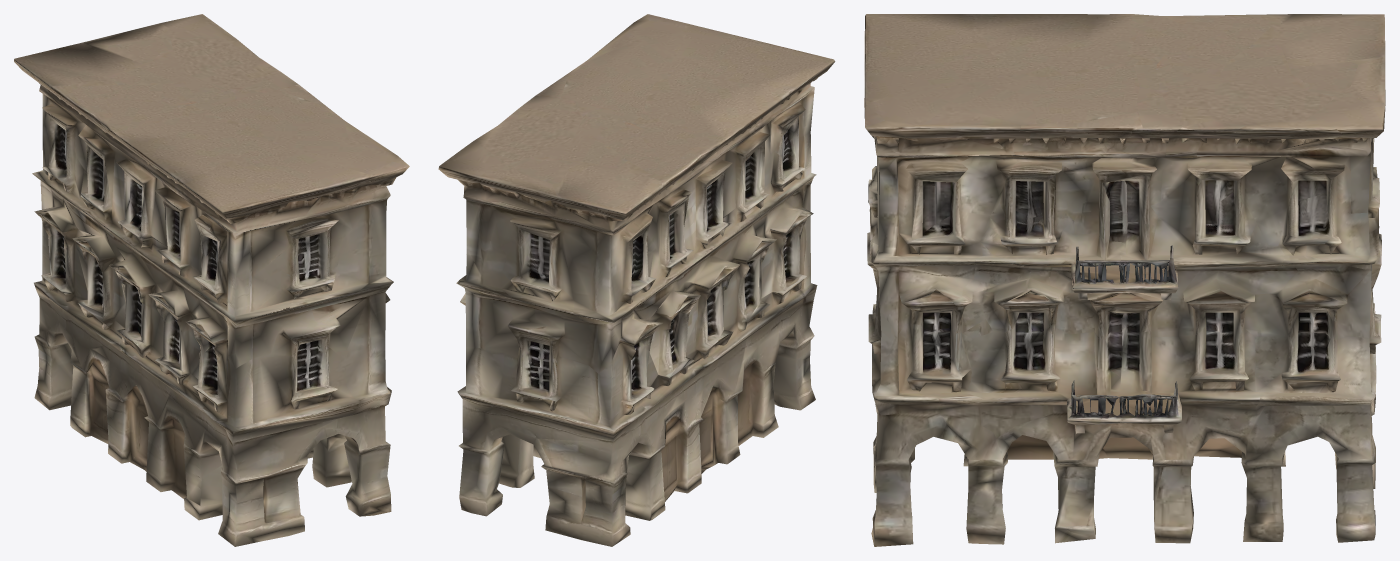
The model's file is travertine-palazzo.glb.
The picture shows the model from 3 angles, left to right: view 1: azimuth 30°, elevation 25°; view 2: azimuth 150°, elevation 25°; view 3: azimuth 270°, elevation 25°; orthographic projection. The views are drawn at different scales.
Parts seen in each view (by area): view 1: tripo_node_16cf3765-5cb2-45e6-bf8d-65e04c7bbf21; view 2: tripo_node_16cf3765-5cb2-45e6-bf8d-65e04c7bbf21; view 3: tripo_node_16cf3765-5cb2-45e6-bf8d-65e04c7bbf21.
Part boxes in pixels (x1,y1,x2,y2): tripo_node_16cf3765-5cb2-45e6-bf8d-65e04c7bbf21: (14, 14, 409, 546); tripo_node_16cf3765-5cb2-45e6-bf8d-65e04c7bbf21: (438, 14, 835, 546); tripo_node_16cf3765-5cb2-45e6-bf8d-65e04c7bbf21: (864, 14, 1385, 546).
Bounding box in the file's own units: 5.09 × 7.99 × 8.71.
Materials: 1 (1 with a texture image).
